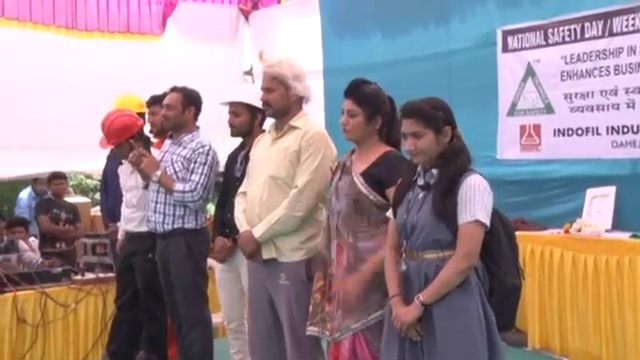helmet: (216, 74, 267, 114), (98, 108, 144, 148)
helmet_off: (397, 92, 462, 177), (335, 76, 393, 148), (253, 60, 316, 119), (156, 89, 205, 144), (144, 93, 172, 145), (6, 219, 29, 248), (48, 174, 69, 202), (32, 179, 49, 199)
helmet_on: (218, 74, 268, 138), (99, 106, 144, 165)
person: (382, 92, 524, 360), (242, 55, 342, 360), (127, 90, 221, 360), (327, 69, 413, 360), (209, 73, 270, 357), (99, 105, 152, 359), (32, 174, 79, 263), (0, 218, 60, 272), (11, 178, 49, 218)
